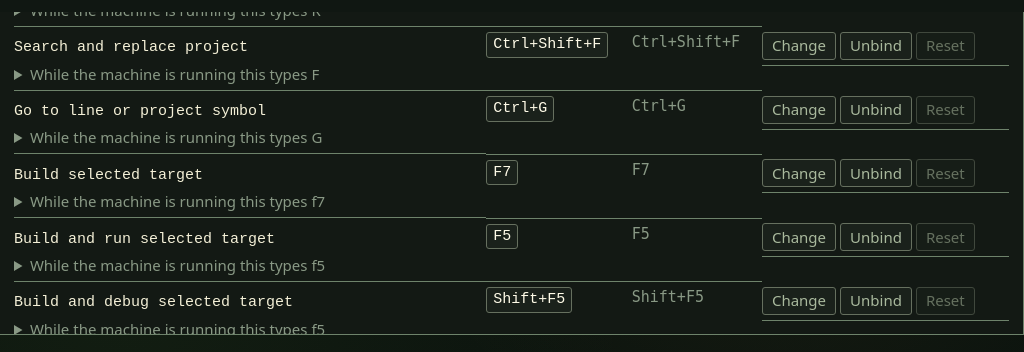
it: KeyboardShortcutsPanel › refuses a chord that would capture ordinary typing
(page scrolled)
Click the button "Change" in the row of "Build selected target": (799,173) [762,159,836,187]
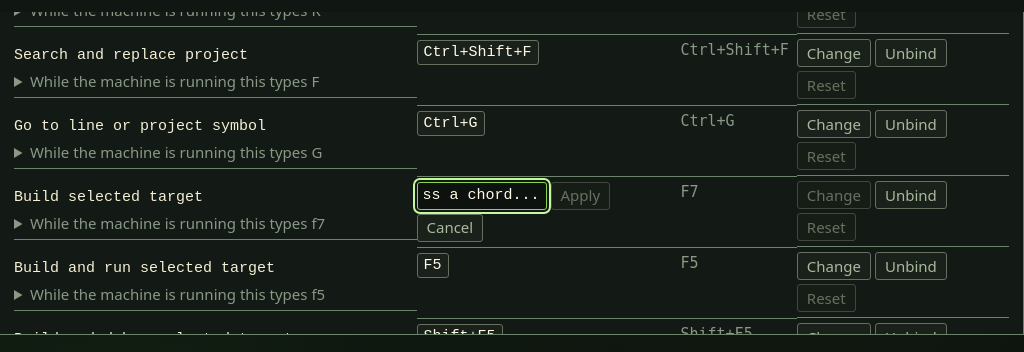
Press q in the field named "Press the new chord for Build selected target", box [416,182,546,210]
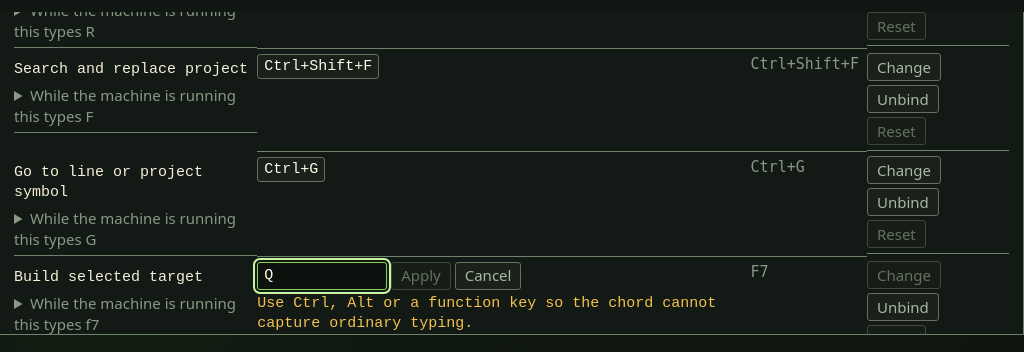
Expected: the button "Apply" is disabled, [391,262,451,290]
Expected: the text "cannot capture ordinary typing" is shown, [257,294,716,332]
